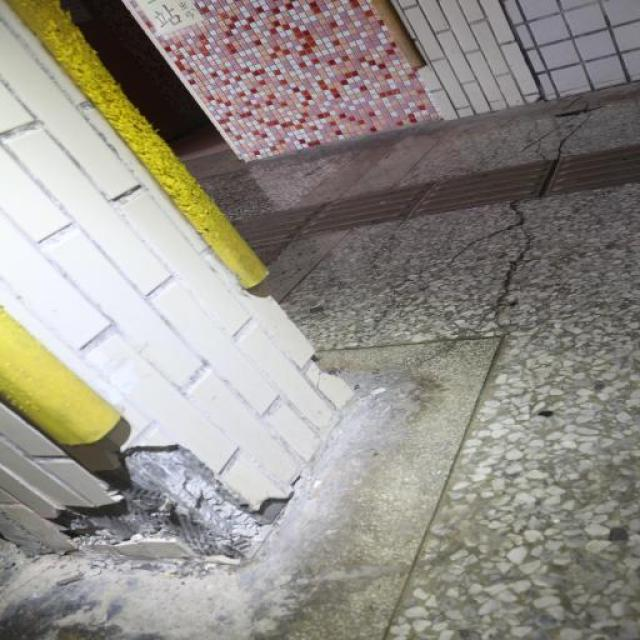D10: (58, 445, 286, 558)
